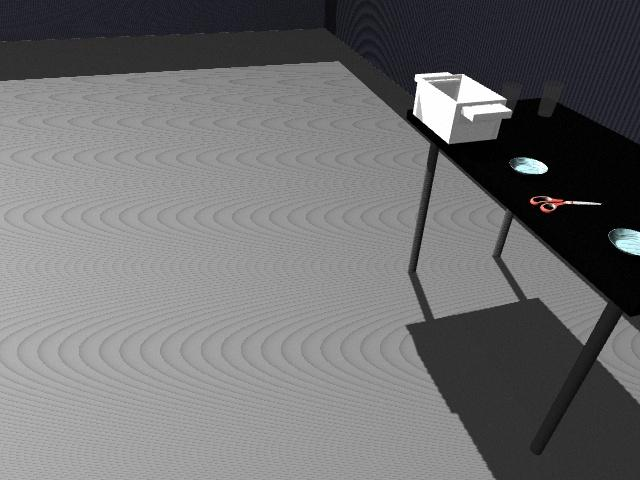cup: (538, 80, 560, 118), (500, 82, 522, 115)
plate: (608, 228, 640, 255), (508, 156, 549, 175)
scissors: (531, 195, 598, 213)
